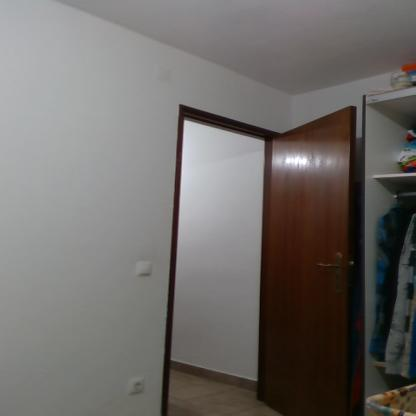open: (155, 90, 375, 412)
